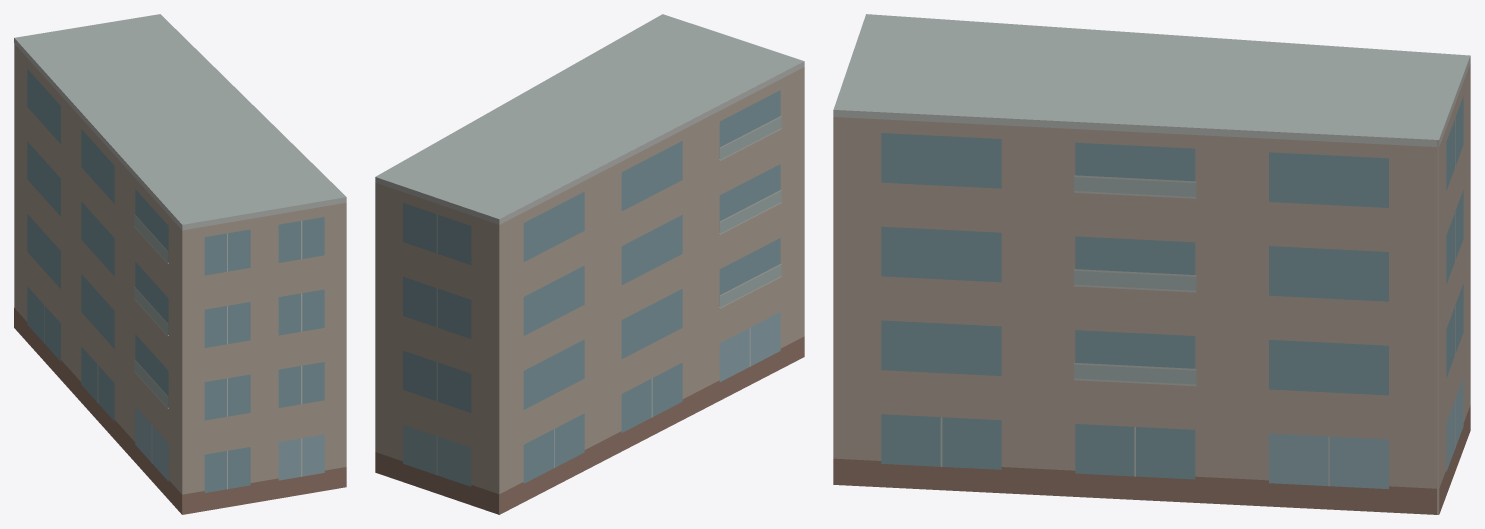
The model's file is survey-upis-32743872.glb.
3 views of the same model, side by side, from view 1: azimuth 30°, elevation 25°; view 2: azimuth 150°, elevation 25°; view 3: azimuth 270°, elevation 25° (orthographic). The views are drawn at different scales.
Visible parts, largest first — view 1: survey-upis-32743872.tmp; view 2: survey-upis-32743872.tmp; view 3: survey-upis-32743872.tmp.
Boxes of the visible parts, box(x1,y1,x2,y2) form: survey-upis-32743872.tmp: box(14, 14, 346, 514); survey-upis-32743872.tmp: box(375, 14, 804, 514); survey-upis-32743872.tmp: box(833, 14, 1470, 514).
Bounding box in the file's own units: 9.23 × 12.8 × 19.72.
